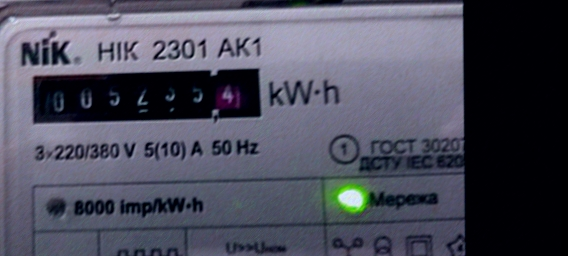0: (51, 88, 66, 113), (79, 85, 94, 109)
2: (134, 81, 150, 107)
3: (161, 78, 178, 103)
4: (219, 77, 237, 106)
5: (189, 76, 205, 105), (107, 82, 121, 107)
screen: (20, 58, 271, 132)
